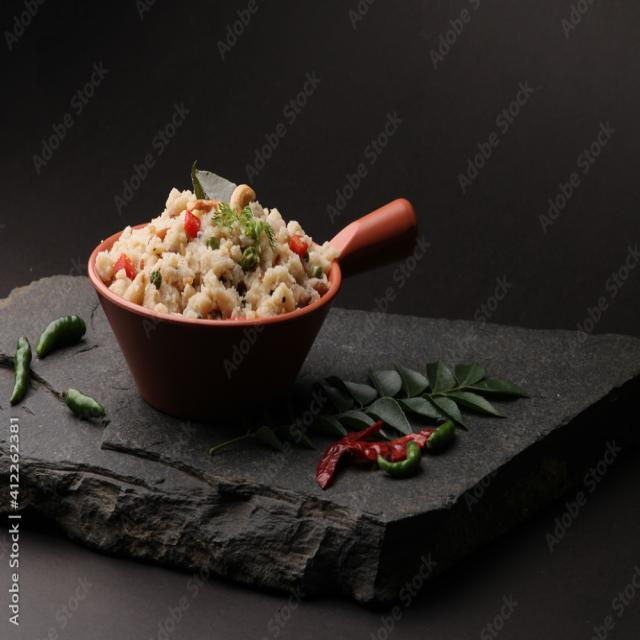UPMA: (96, 184, 339, 319)
